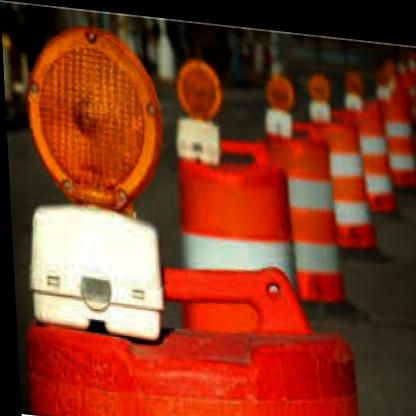obstacle: (159, 125, 299, 268), (289, 132, 341, 306)
